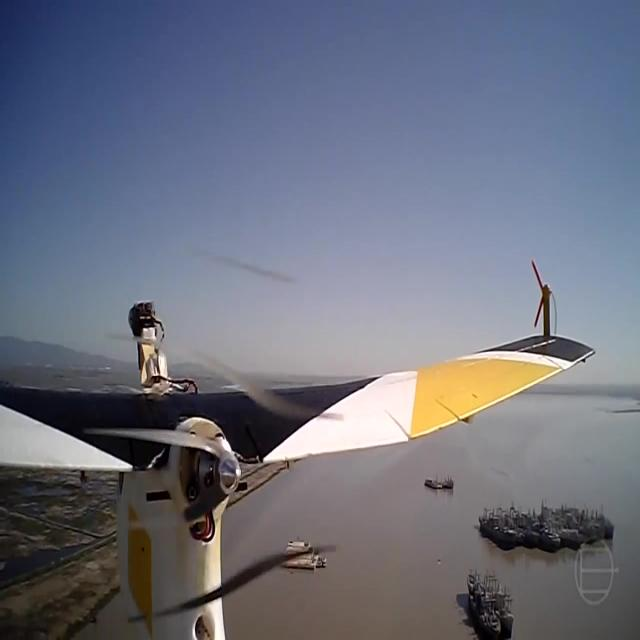iha: (1, 252, 598, 640)
